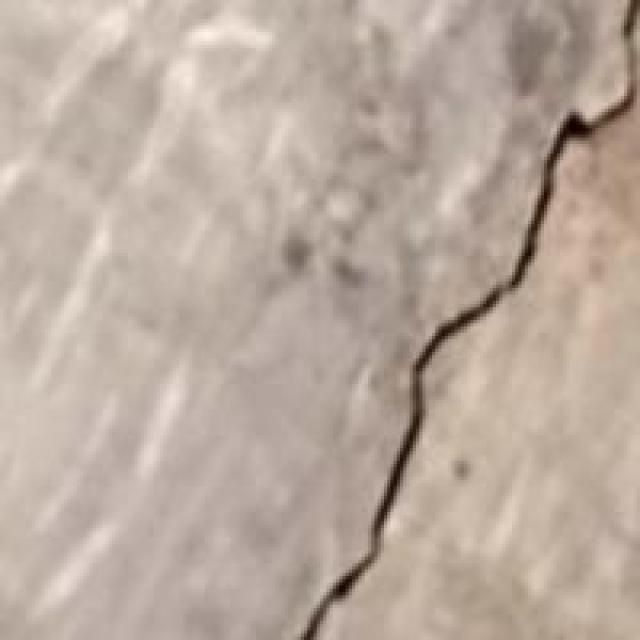Crack: (294, 6, 637, 637)
